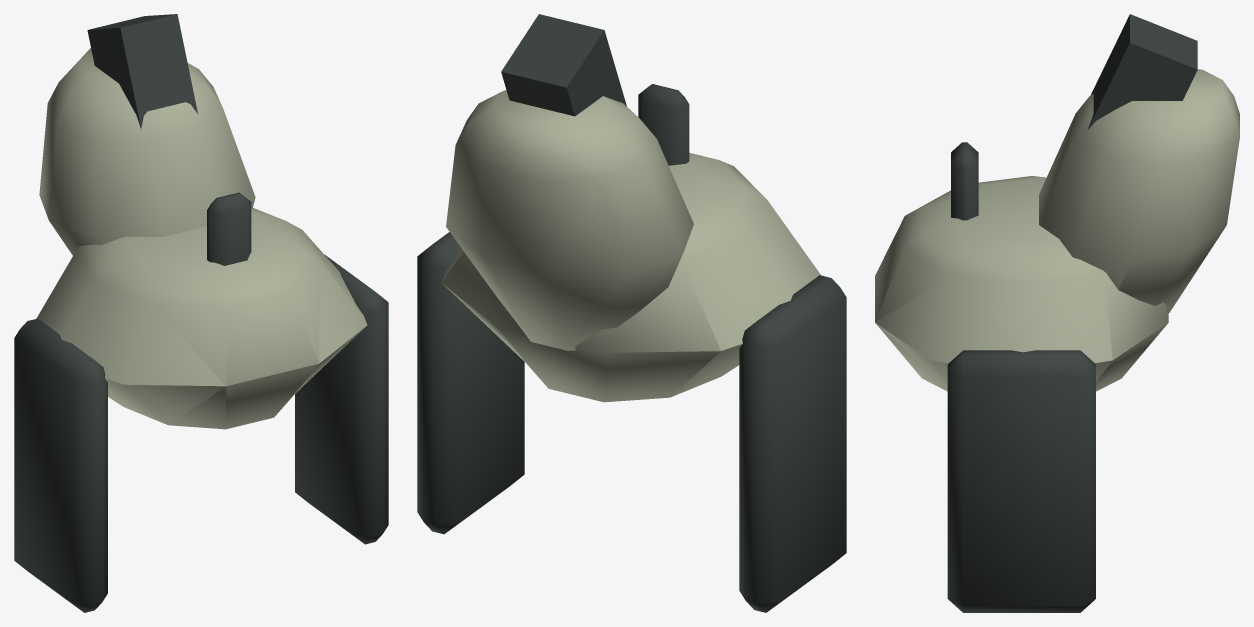
The model's file is scyther.obj.
3 views of the same model, side by side, from view 1: azimuth 30°, elevation 25°; view 2: azimuth 150°, elevation 25°; view 3: azimuth 270°, elevation 25° (orthographic). The views are drawn at different scales.
Parts seen in each view (by area): view 1: rigid_shell_002, rigid_shell_004, rigid_shell_000, rigid_shell_001, rigid_shell_003, rigid_shell_005; view 2: rigid_shell_004, rigid_shell_002, rigid_shell_000, rigid_shell_001, rigid_shell_003, rigid_shell_005; view 3: rigid_shell_001, rigid_shell_002, rigid_shell_004, rigid_shell_003, rigid_shell_005.
Part boxes in pixels (bbox=[...]): rigid_shell_002: bbox=[36, 208, 367, 429]; rigid_shell_004: bbox=[39, 48, 255, 255]; rigid_shell_000: bbox=[14, 318, 107, 612]; rigid_shell_001: bbox=[295, 254, 388, 544]; rigid_shell_003: bbox=[87, 14, 197, 128]; rigid_shell_005: bbox=[207, 192, 251, 265]; rigid_shell_004: bbox=[446, 90, 693, 350]; rigid_shell_002: bbox=[441, 153, 820, 402]; rigid_shell_000: bbox=[739, 275, 846, 612]; rigid_shell_001: bbox=[417, 232, 524, 534]; rigid_shell_003: bbox=[501, 14, 626, 116]; rigid_shell_005: bbox=[638, 84, 689, 165]; rigid_shell_001: bbox=[947, 350, 1095, 612]; rigid_shell_002: bbox=[875, 176, 1168, 391]; rigid_shell_004: bbox=[1039, 69, 1239, 312]; rigid_shell_003: bbox=[1087, 14, 1197, 130]; rigid_shell_005: bbox=[951, 142, 978, 220].
Bounding box in the file's own units: 0.61 × 0.9141 × 0.5909.
